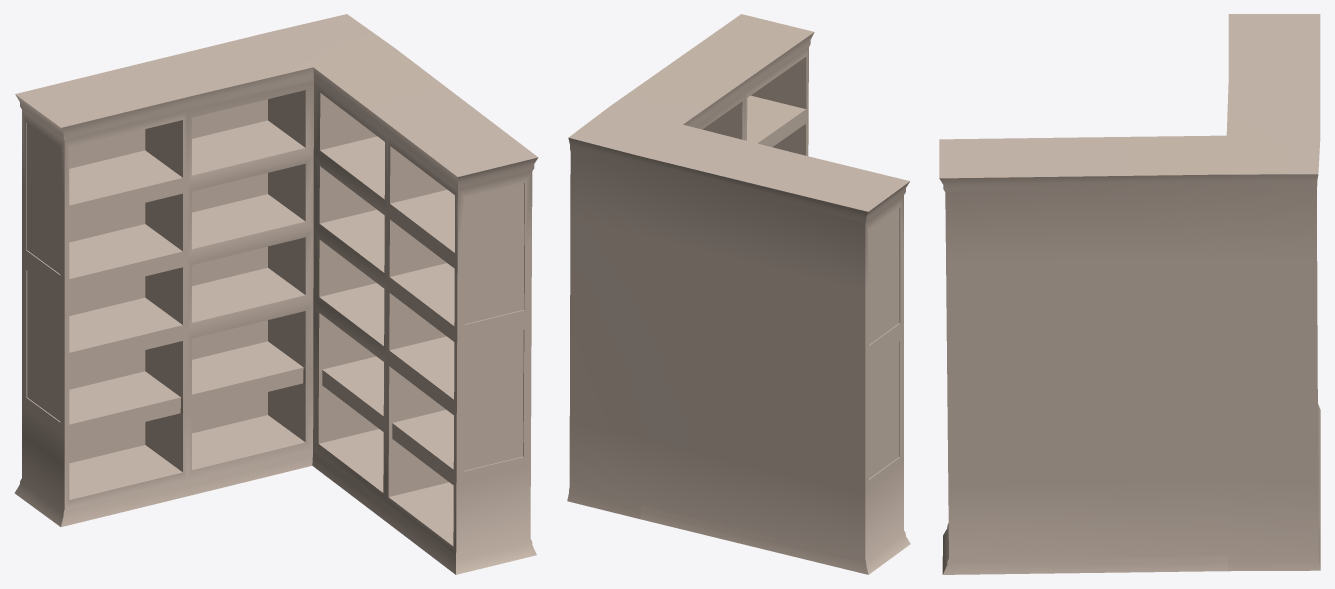
The model's file is prop_L_boockshelf.fbx.
3 renders of one model, left to right at view 1: azimuth 30°, elevation 25°; view 2: azimuth 150°, elevation 25°; view 3: azimuth 270°, elevation 25°, orthographic. The views are drawn at different scales.
Parts seen in each view (by area): view 1: Estanteria sencilla en L; view 2: Estanteria sencilla en L; view 3: Estanteria sencilla en L.
Part boxes in pixels (x1,y1,x2,y2): Estanteria sencilla en L: (14, 14, 538, 574); Estanteria sencilla en L: (567, 14, 910, 574); Estanteria sencilla en L: (939, 14, 1320, 574).
Size of the model in its own units: 190 by 220 by 190.
Materials: 1 (1 with a texture image).
